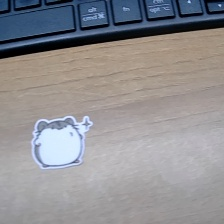mouse: (29, 113, 94, 172)
